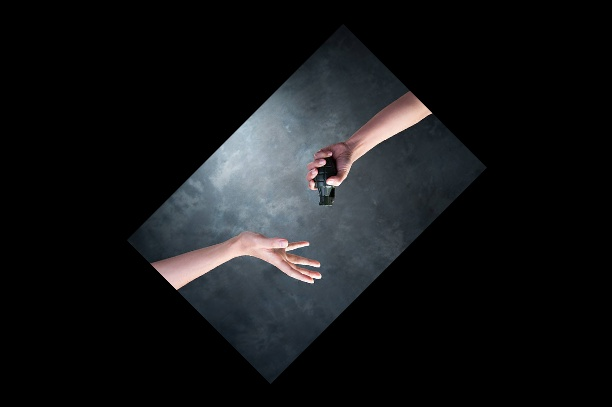e1: (309, 148, 341, 209)
